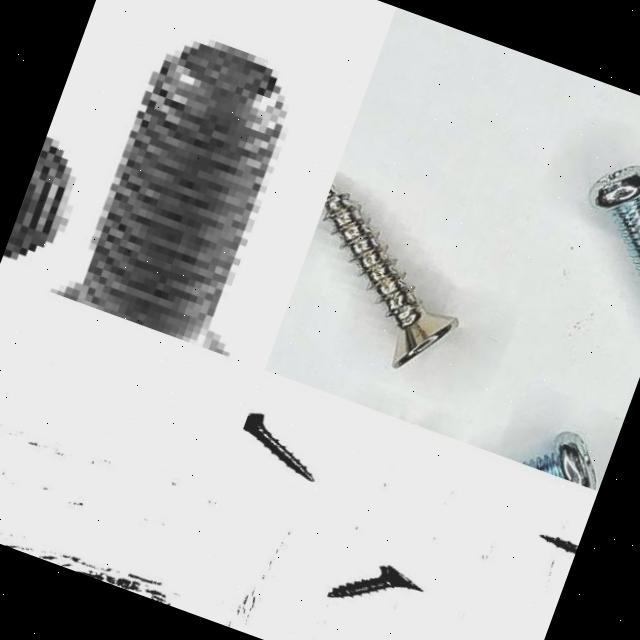Screw: (53, 39, 289, 360), (323, 186, 458, 368), (590, 166, 640, 273), (243, 413, 315, 482), (522, 433, 596, 490), (327, 566, 423, 598), (541, 535, 579, 555)
